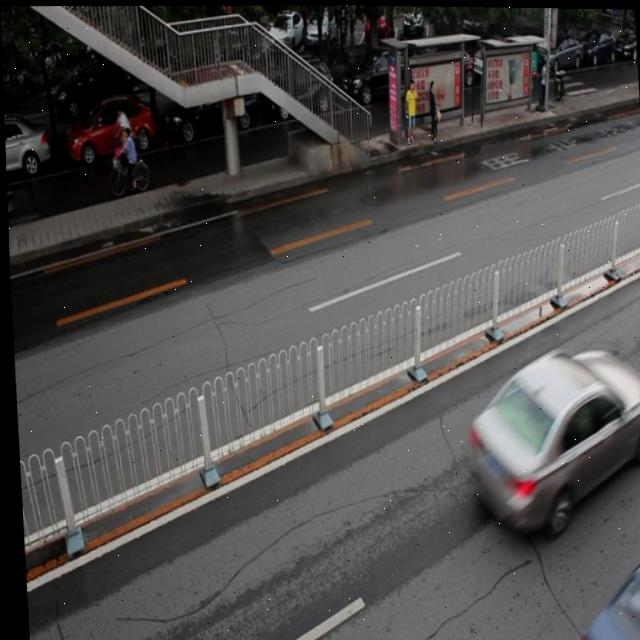car: (455, 339, 640, 537), (569, 521, 640, 640), (160, 82, 259, 149), (63, 90, 156, 160), (337, 47, 417, 110), (261, 55, 335, 121), (3, 116, 53, 180)
